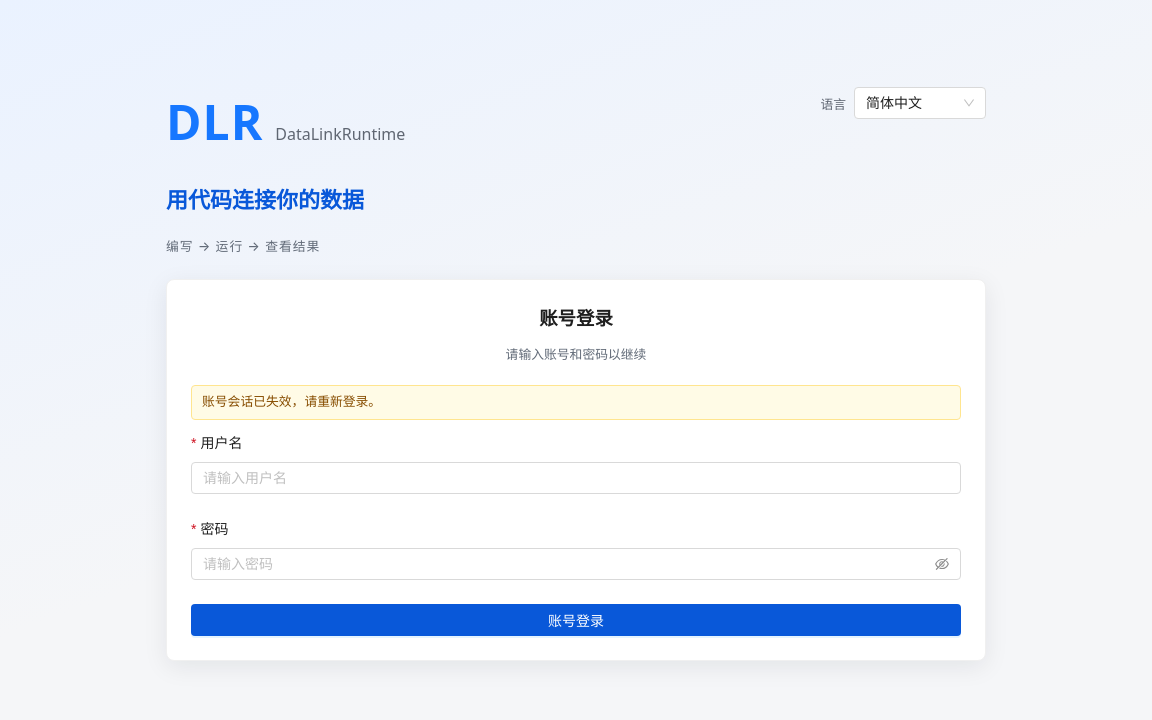
shows the current Principal on the protected account console and logs out
Type "admin" into the field with test id "account-username-input" at (576, 478), box x1=191 y1=462 x2=961 y2=494
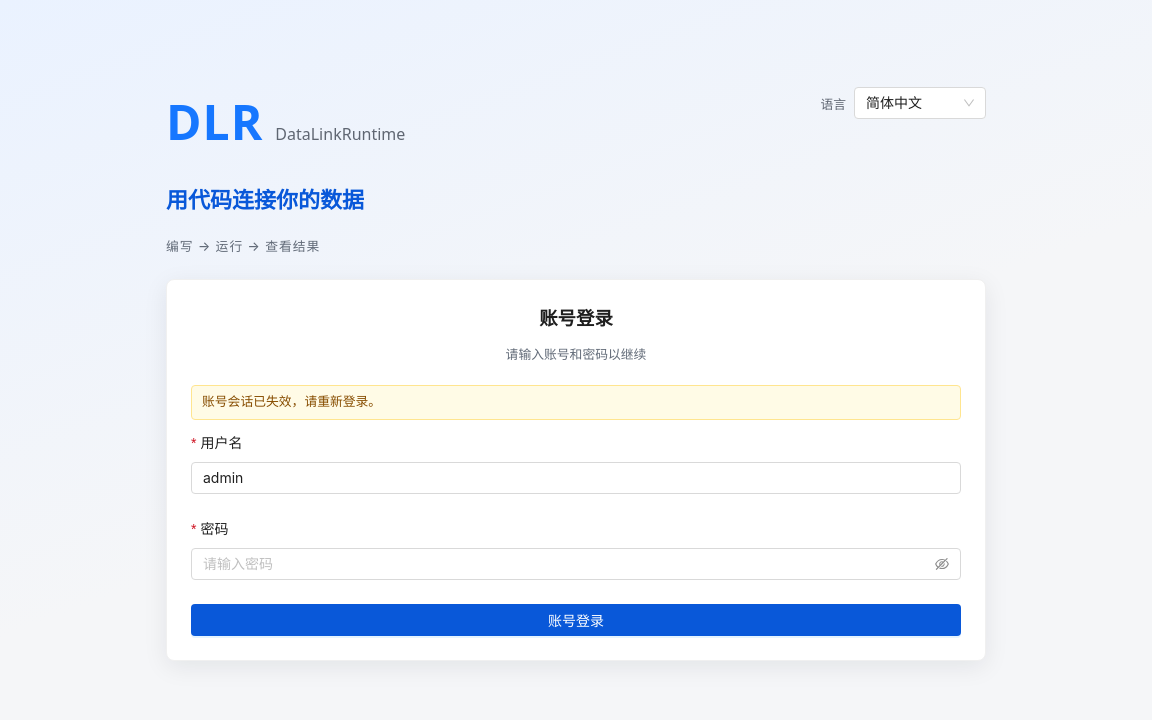
Type "new-password" into the password field with test id "account-password-input" at (567, 564), box x1=203 y1=553 x2=931 y2=575
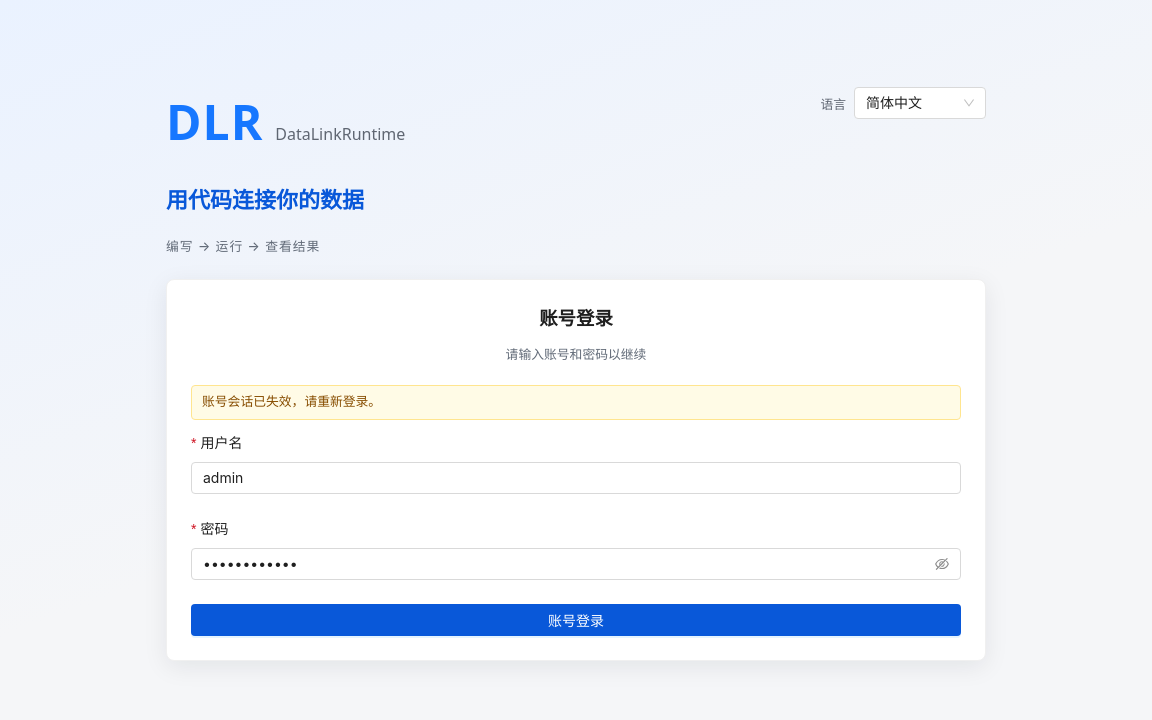
Click the button with test id "account-login-submit" at (576, 620), box x1=191 y1=604 x2=961 y2=636
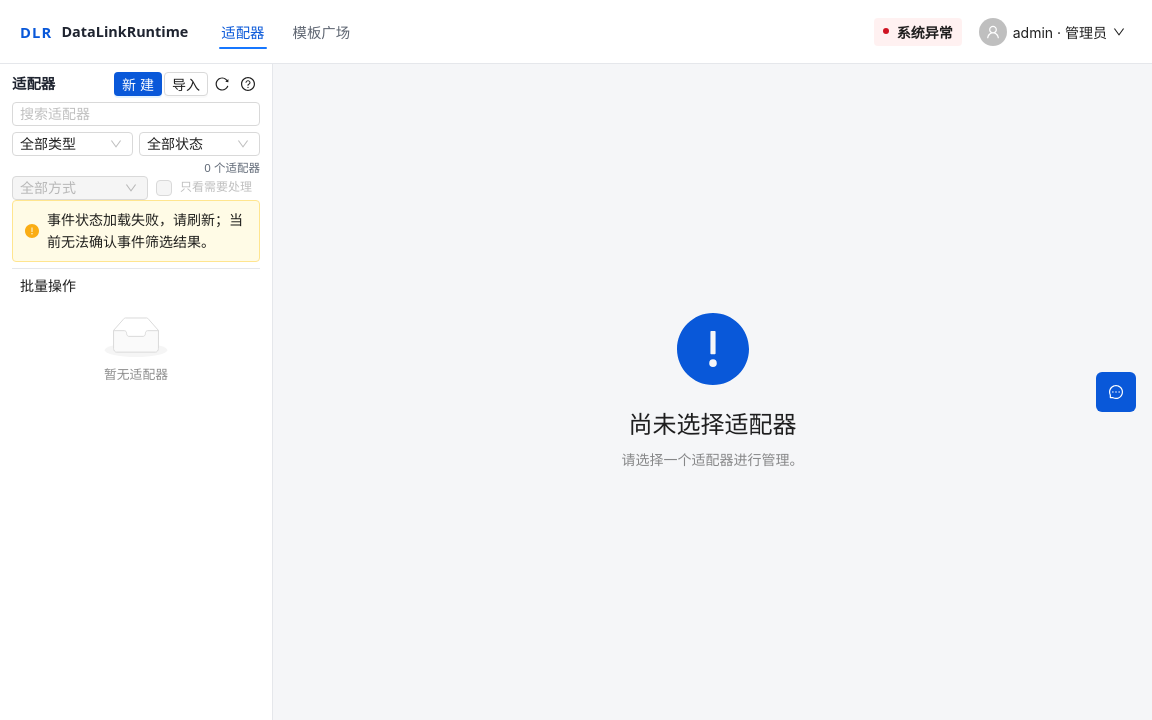
Expected: the text "admin · 管理员" is shown, x1=1013 y1=22 x2=1107 y2=42
Expected: the text with test id "account-principal" shows "admin", x1=1013 y1=24 x2=1107 y2=40
Expected: the text with test id "account-principal" shows "管理员", x1=1013 y1=24 x2=1107 y2=40
Click the button with test id "user-menu" at (1052, 32), box x1=972 y1=16 x2=1132 y2=48
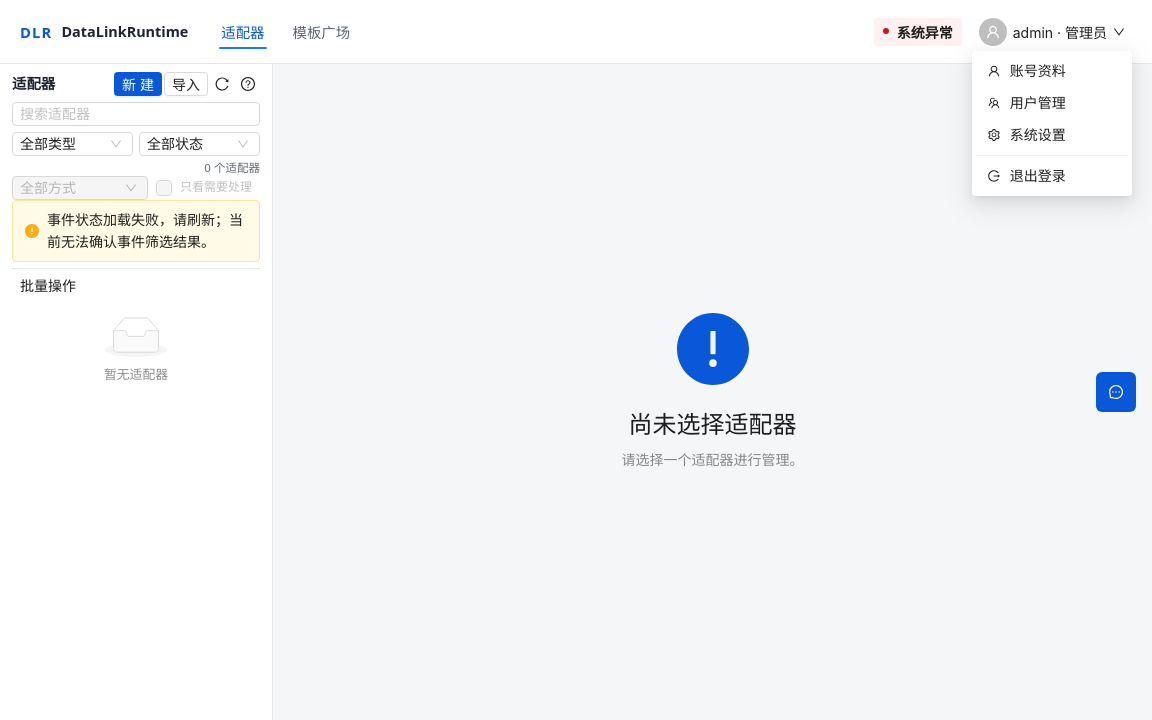
Click the menu item "退出登录" at (1027, 176), box x1=988 y1=167 x2=1066 y2=184
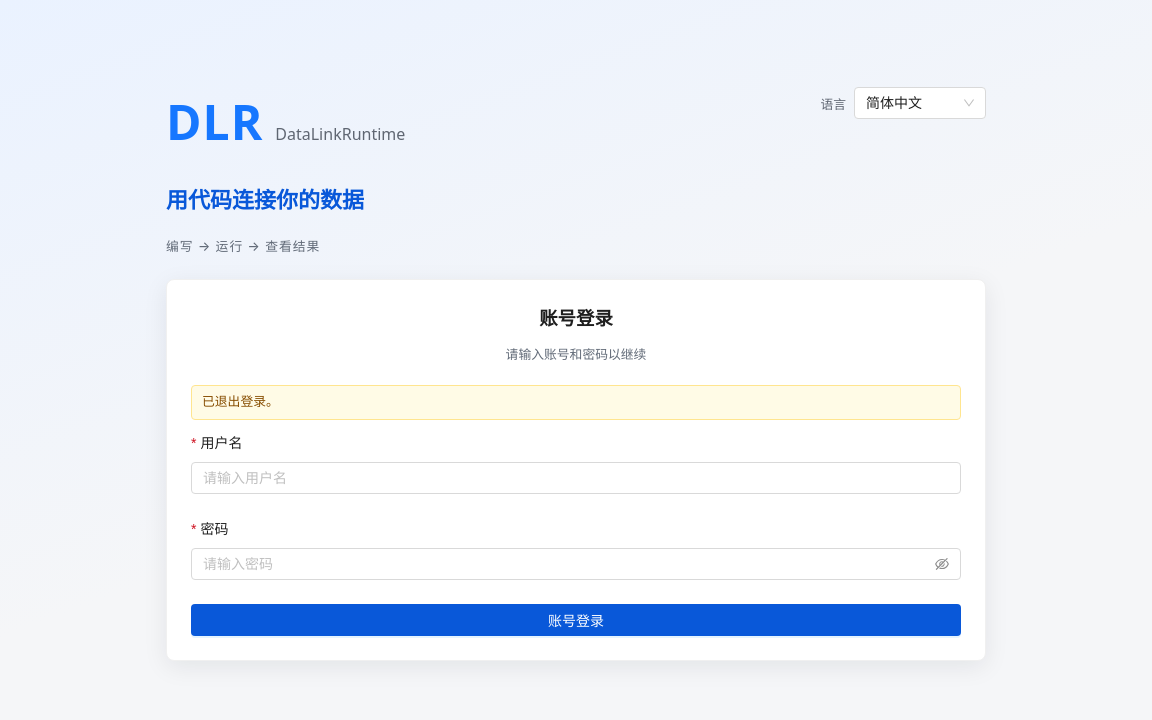
Expected: the field with test id "account-username-input" is shown, x1=191 y1=462 x2=961 y2=494
Expected: the text with test id "account-auth-notice" shows "已退出登录", x1=202 y1=394 x2=279 y2=410
